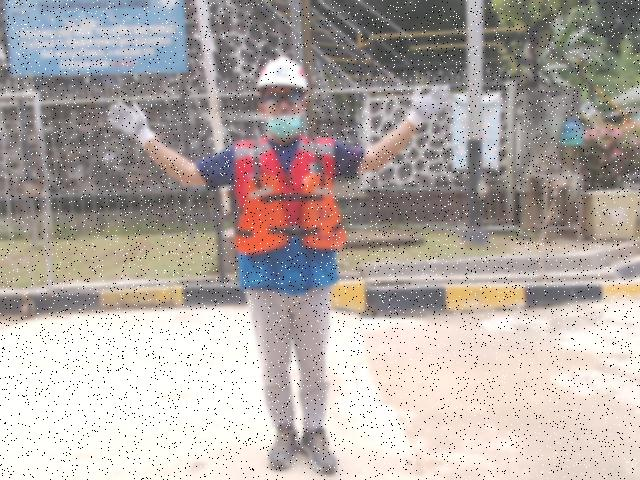glasses: (262, 90, 305, 106)
gloves: (102, 95, 159, 152), (403, 80, 456, 129)
helmet: (257, 56, 311, 90)
mask: (267, 115, 303, 142)
safety-shoes: (300, 425, 338, 475), (266, 423, 296, 470)
vest: (234, 178, 347, 253)
